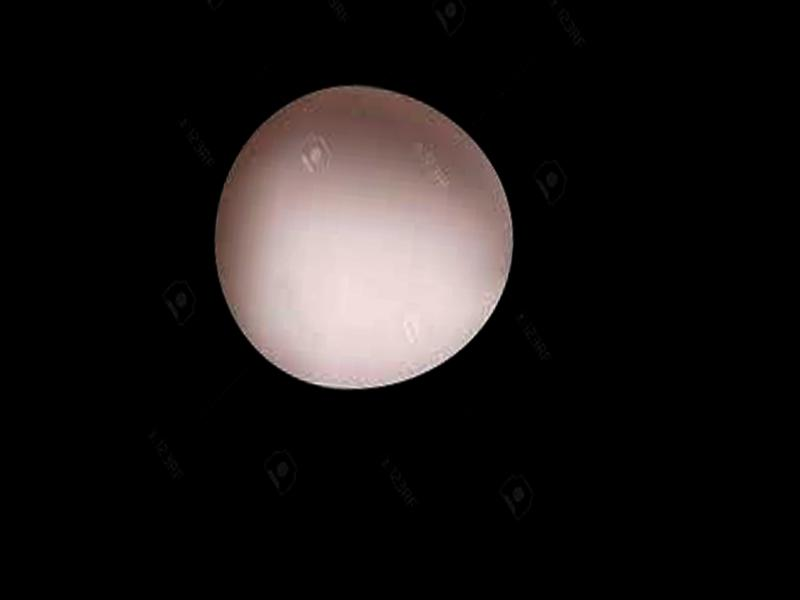Eggs: (201, 76, 526, 404)
